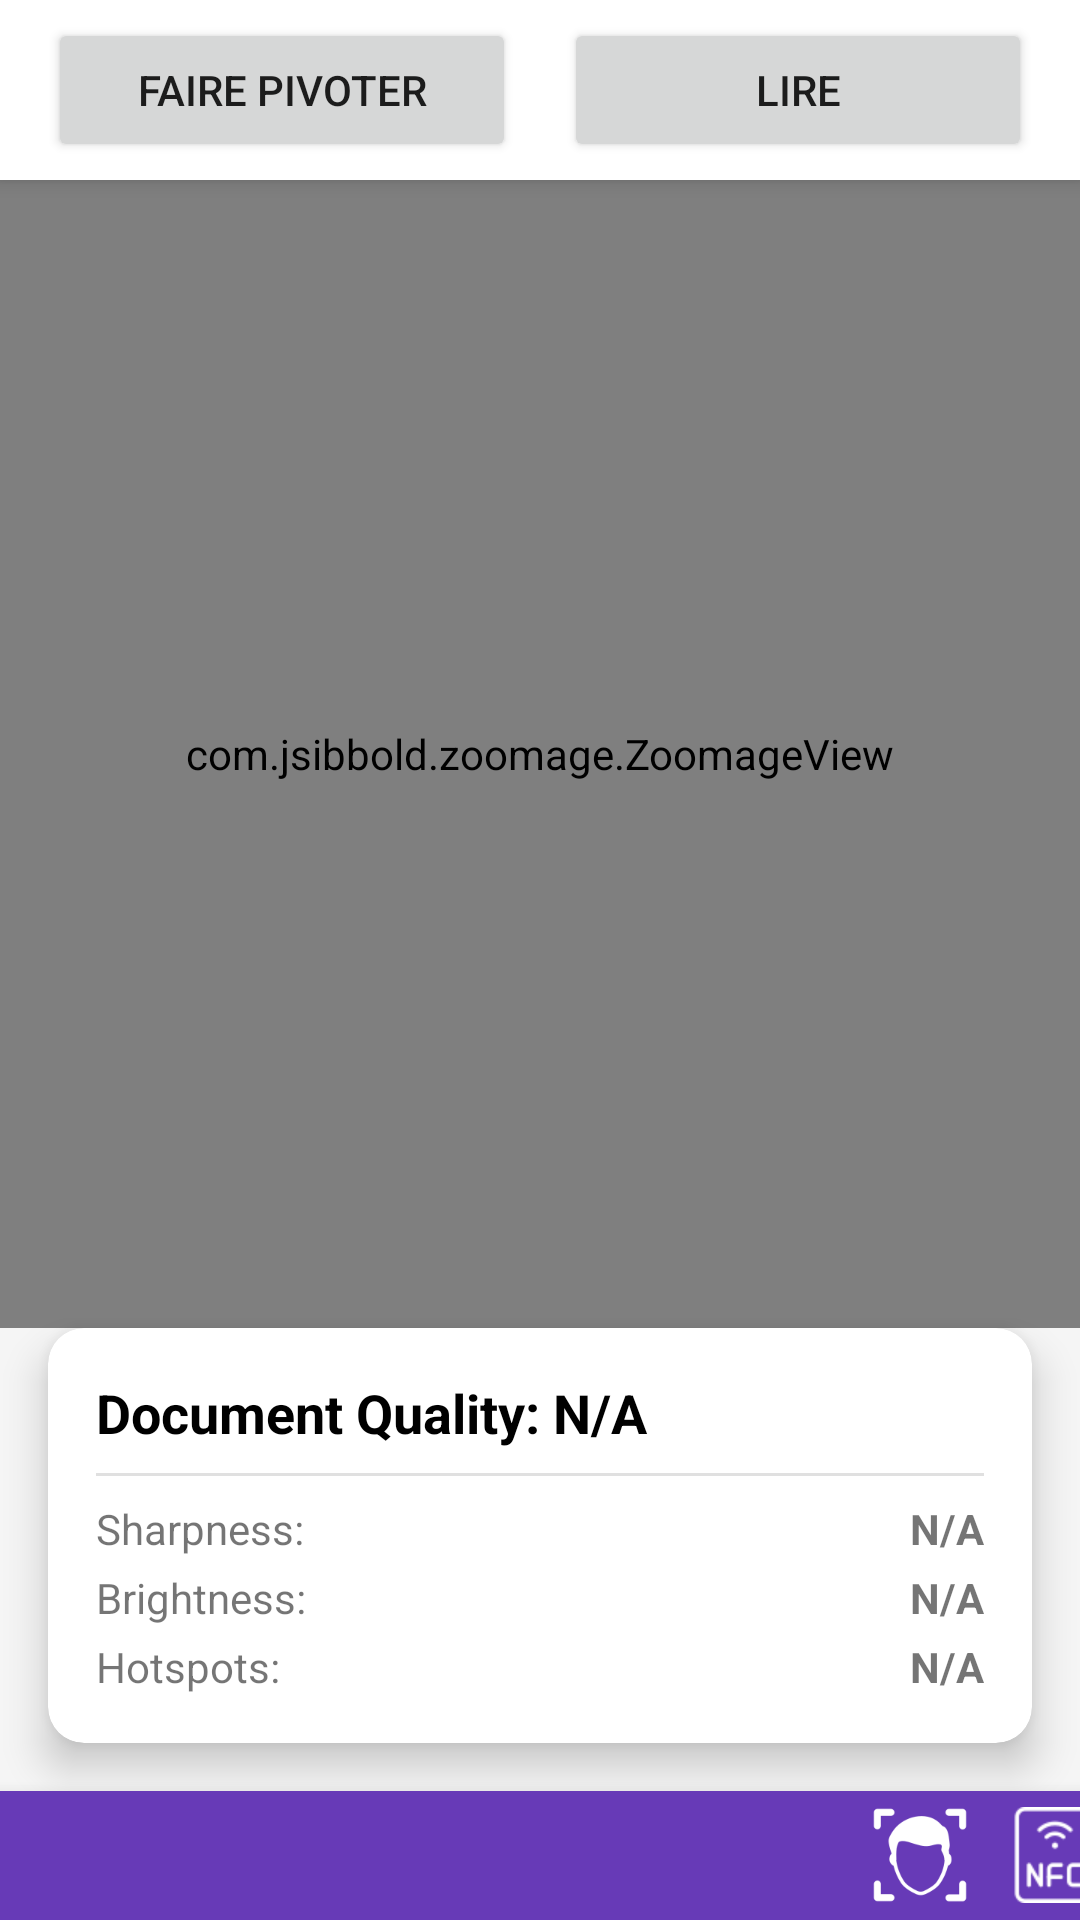

Icons on this 1080px×1920px Android screen, each with the point to tap as (x,y):
facial recognition: (920,1855)
